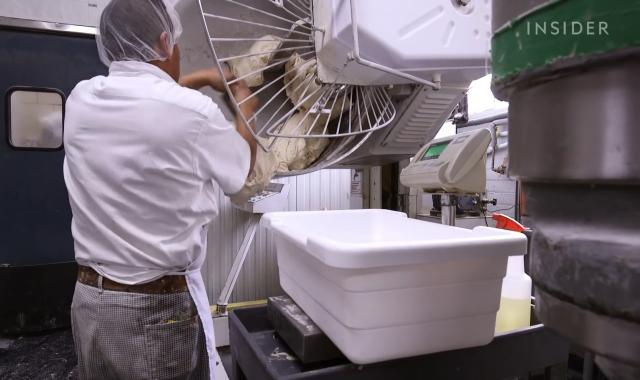hairnet: (91, 0, 184, 66)
